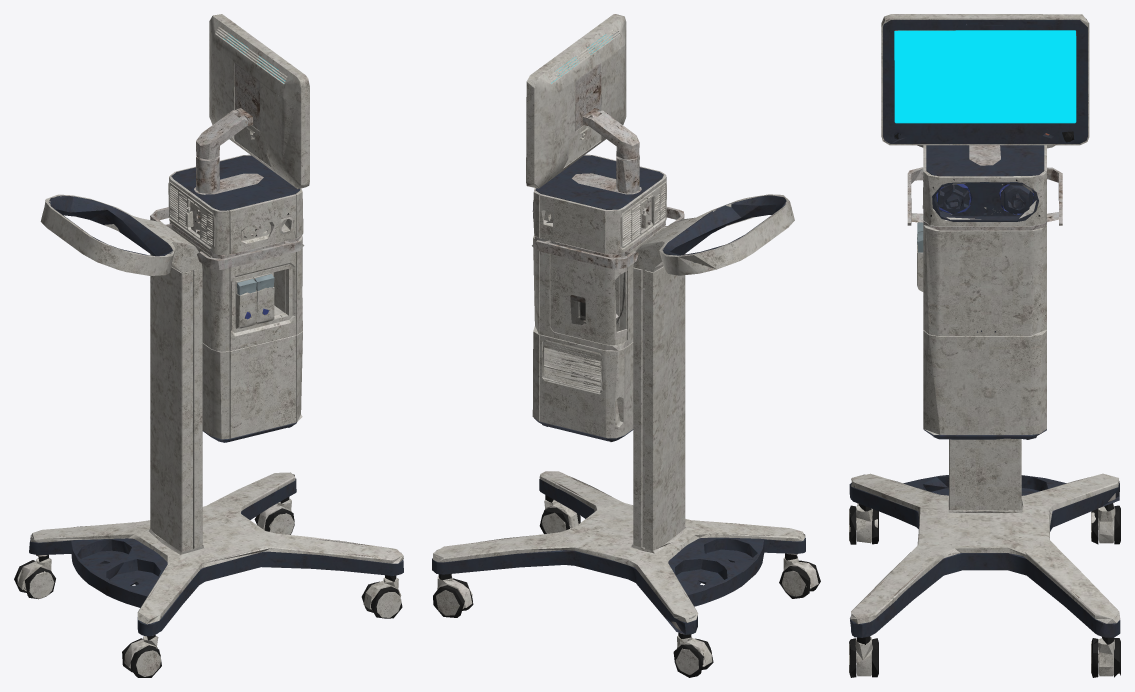
The model's file is craft_r12_iron_breath.glb.
The picture shows the model from 3 angles, left to right: view 1: azimuth 30°, elevation 25°; view 2: azimuth 150°, elevation 25°; view 3: azimuth 270°, elevation 25°; orthographic projection. The views are drawn at different scales.
Visible parts, largest first — view 1: craft_r12_iron_breath; view 2: craft_r12_iron_breath; view 3: craft_r12_iron_breath.
Part boxes in pixels (x1=…): craft_r12_iron_breath: x1=14, y1=14, x2=403, y2=677; craft_r12_iron_breath: x1=432, y1=14, x2=820, y2=677; craft_r12_iron_breath: x1=849, y1=14, x2=1120, y2=677.
Size of the model in its own units: 0.7261 by 1.34 by 0.5315.
Materials: 10 (9 with a texture image).
